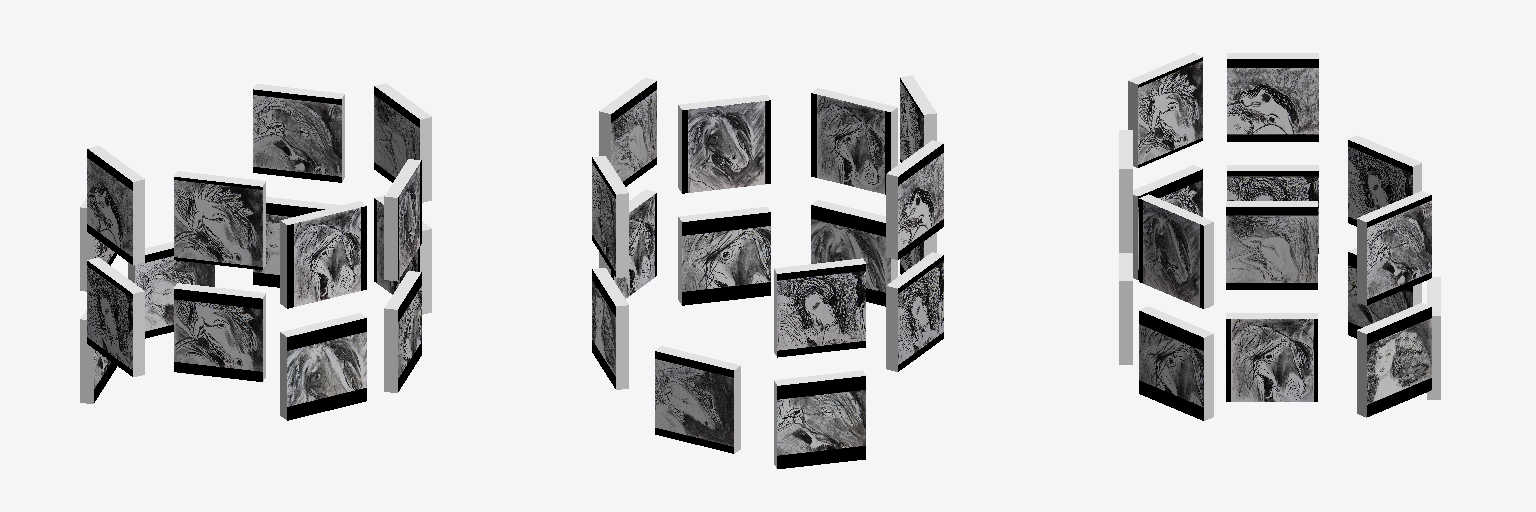
3 views of the same model, side by side, from view 1: azimuth 30°, elevation 25°; view 2: azimuth 150°, elevation 25°; view 3: azimuth 270°, elevation 25° (orthographic).
Visible parts, largest first — view 1: Cube_8, Cube_9, Cube_10, Cube_14, Cube_6, Cube_4, Cube_12, Cube_11, Cube_1, Cube_13, Cube_5, Cube_3 (+3 smaller); view 2: Cube_5, Cube_13, Cube_15, Cube_7, Cube_1, Cube_14, Cube_4, Cube_12, Cube_6, Cube_11, Cube_2, Cube_10 (+3 smaller); view 3: Cube_3, Cube_11, Cube_12, Cube_2, Cube_10, Cube_5, Cube_13, Cube_9, Cube_15, Cube_4, Cube_8, Cube_7 (+3 smaller).
Part boxes in pixels (x1,y1,x2,y2): Cube_8: (174, 283, 265, 381); Cube_9: (174, 171, 265, 269); Cube_10: (253, 84, 344, 182); Cube_14: (280, 201, 366, 308); Cube_6: (280, 313, 366, 420); Cube_4: (87, 257, 144, 376); Cube_12: (87, 146, 144, 265); Cube_11: (374, 83, 431, 202); Cube_1: (128, 241, 214, 338); Cube_13: (384, 159, 421, 281); Cube_5: (384, 271, 421, 392); Cube_3: (374, 195, 431, 314); Cube_5: (678, 207, 770, 305); Cube_13: (678, 95, 770, 193); Cube_15: (774, 258, 865, 357); Cube_7: (774, 370, 865, 468); Cube_1: (655, 346, 740, 453); Cube_14: (811, 88, 897, 194); Cube_4: (886, 252, 943, 371); Cube_12: (886, 140, 943, 259); Cube_6: (811, 200, 897, 306); Cube_11: (599, 78, 656, 186); Cube_2: (592, 268, 628, 389); Cube_10: (592, 156, 628, 277); Cube_3: (1226, 313, 1317, 401); Cube_11: (1226, 201, 1317, 289); Cube_12: (1227, 53, 1318, 141); Cube_2: (1357, 303, 1431, 417); Cube_10: (1357, 191, 1431, 305); Cube_5: (1139, 306, 1213, 420); Cube_13: (1139, 194, 1213, 308); Cube_9: (1128, 53, 1202, 167); Cube_15: (1348, 135, 1421, 226); Cube_4: (1227, 165, 1318, 253); Cube_8: (1133, 165, 1202, 279); Cube_7: (1348, 248, 1421, 338).
Size of the model in its own units: 1124 by 1017 by 1049.
Materials: 16 (15 with a texture image).